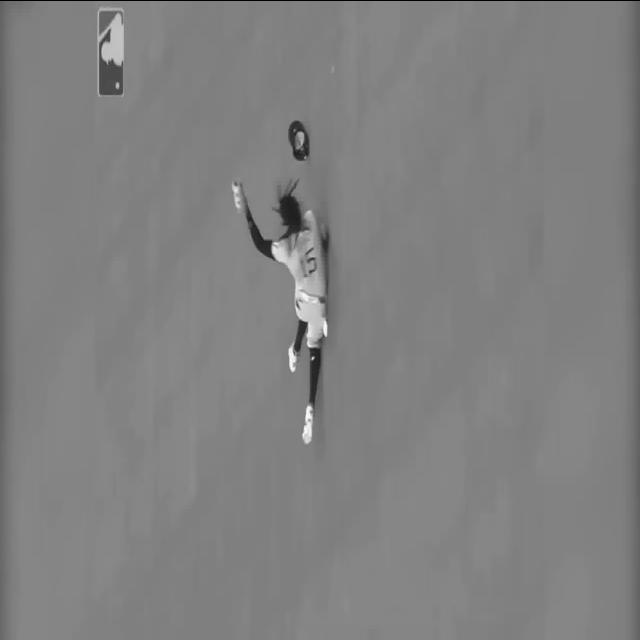baseball_glove: (232, 179, 246, 211)
shoe: (302, 399, 316, 442), (288, 339, 300, 369)
